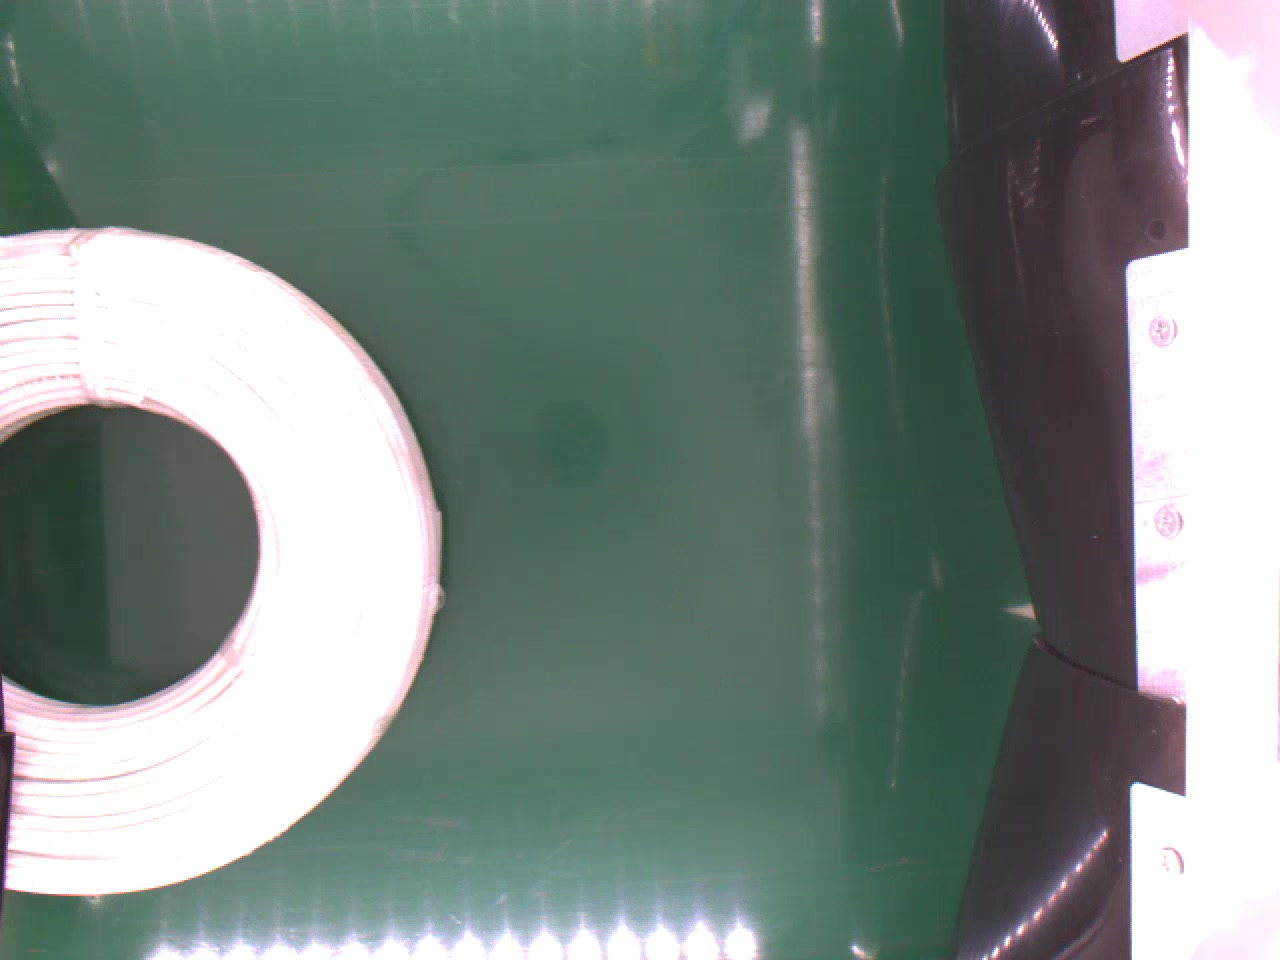white: (0, 224, 449, 896)
